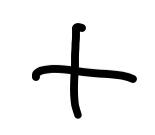plus: (33, 24, 137, 119)
